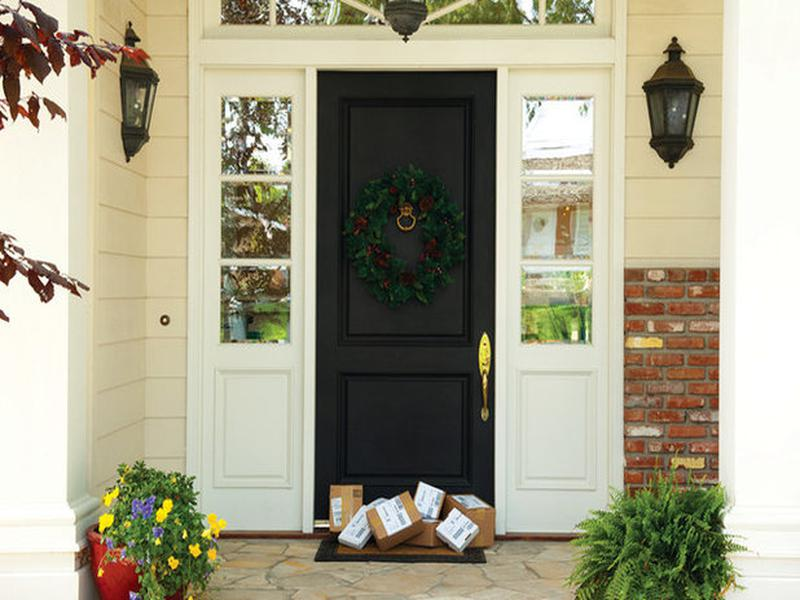package: (365, 490, 425, 551), (431, 507, 488, 557), (326, 479, 367, 539)
